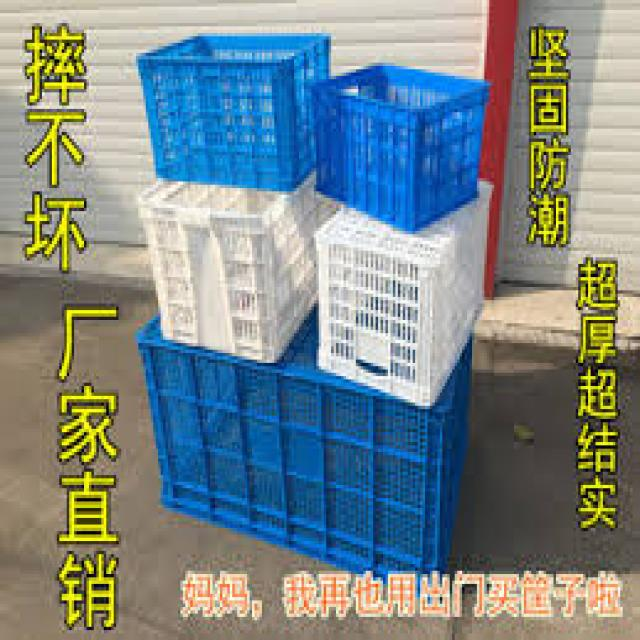basket: (104, 282, 488, 588), (316, 181, 492, 409), (139, 171, 327, 369), (302, 58, 490, 238), (138, 33, 331, 191)
